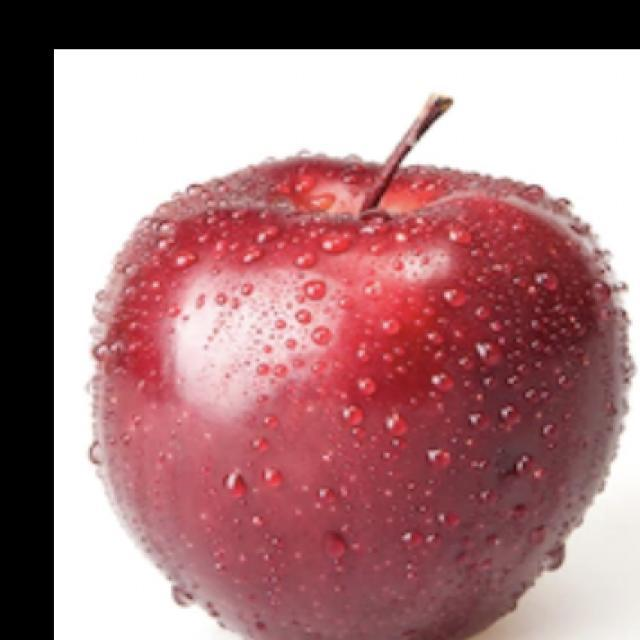Fresh Apple: (71, 153, 640, 640)
